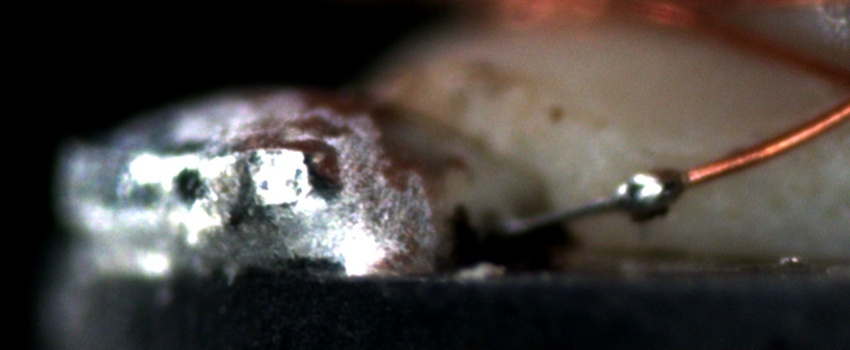TB: (605, 167, 687, 223)
TS: (507, 173, 685, 232)
TTCW: (498, 150, 744, 239)
